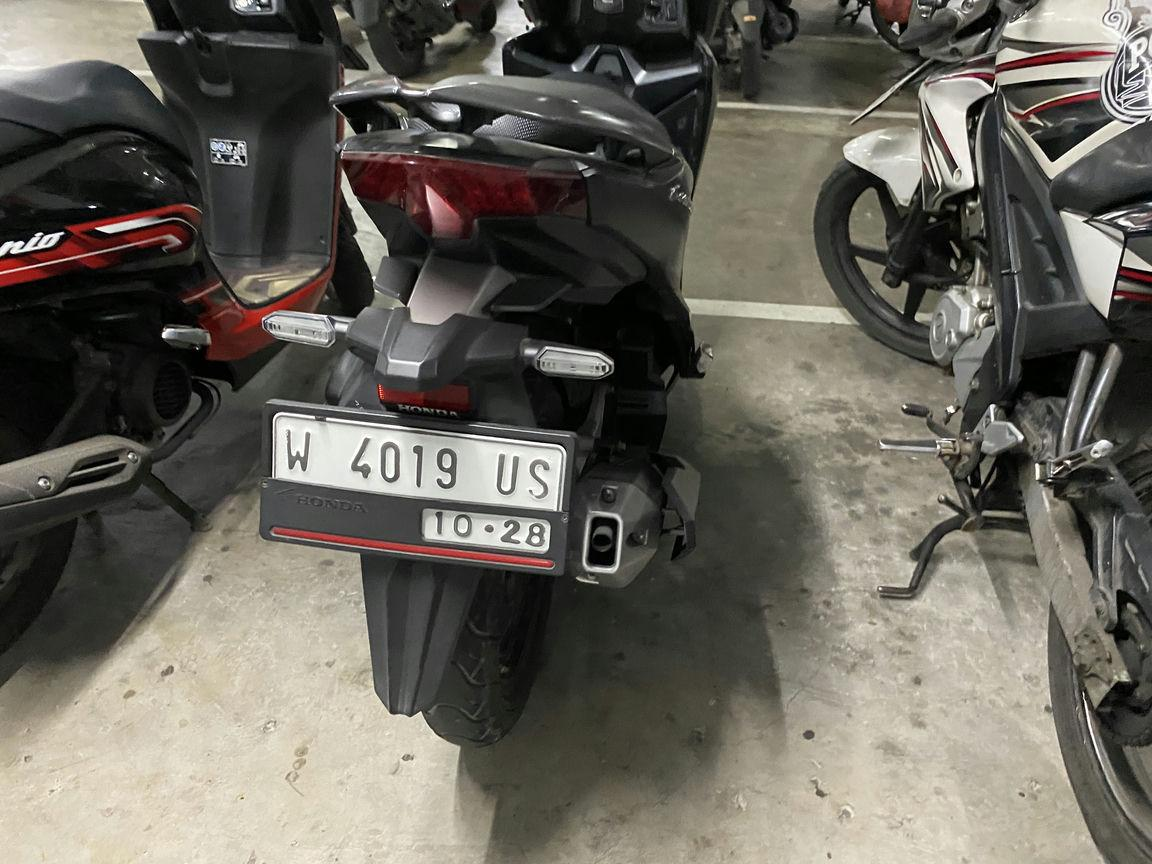plat: (261, 400, 576, 576)
